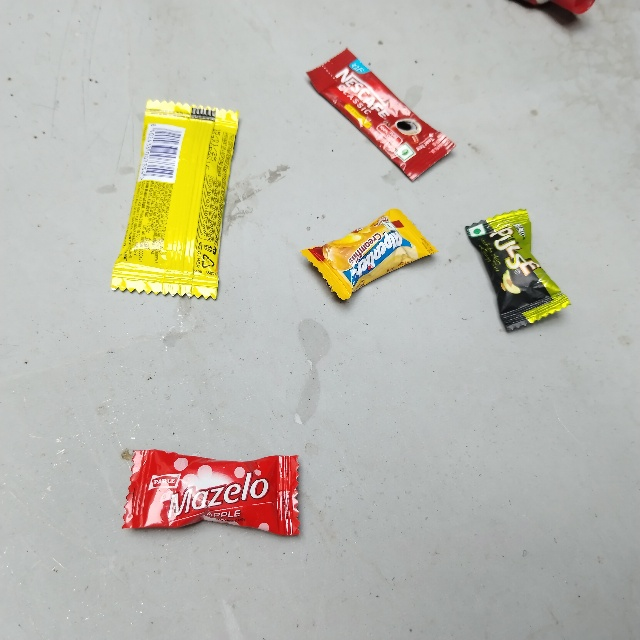Alpenlibe Creamfills: (297, 253, 418, 318)
Mazelo: (124, 446, 298, 538)
Nescafe Coffee: (305, 79, 362, 225)
Orbit: (140, 96, 247, 295)
Pulse: (464, 223, 534, 348)
